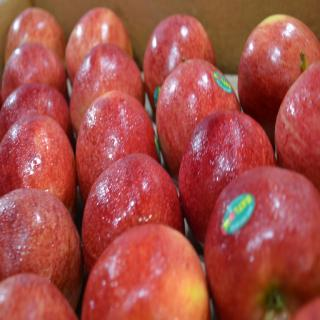Apple: (0, 6, 320, 320), (232, 7, 311, 138)
